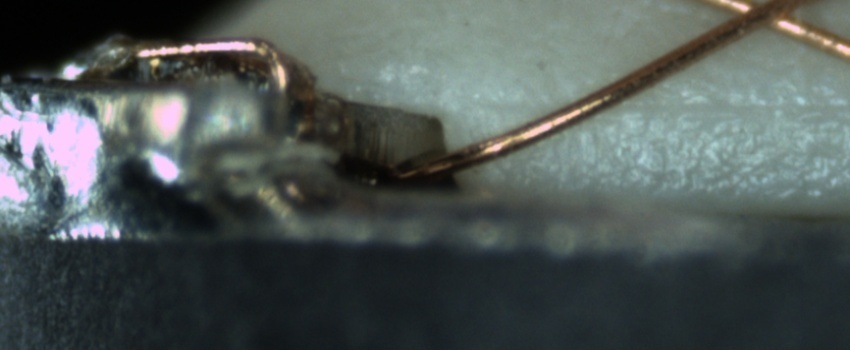CL: (712, 1, 820, 39)
DL: (491, 75, 849, 140)
TE: (119, 30, 318, 137)
